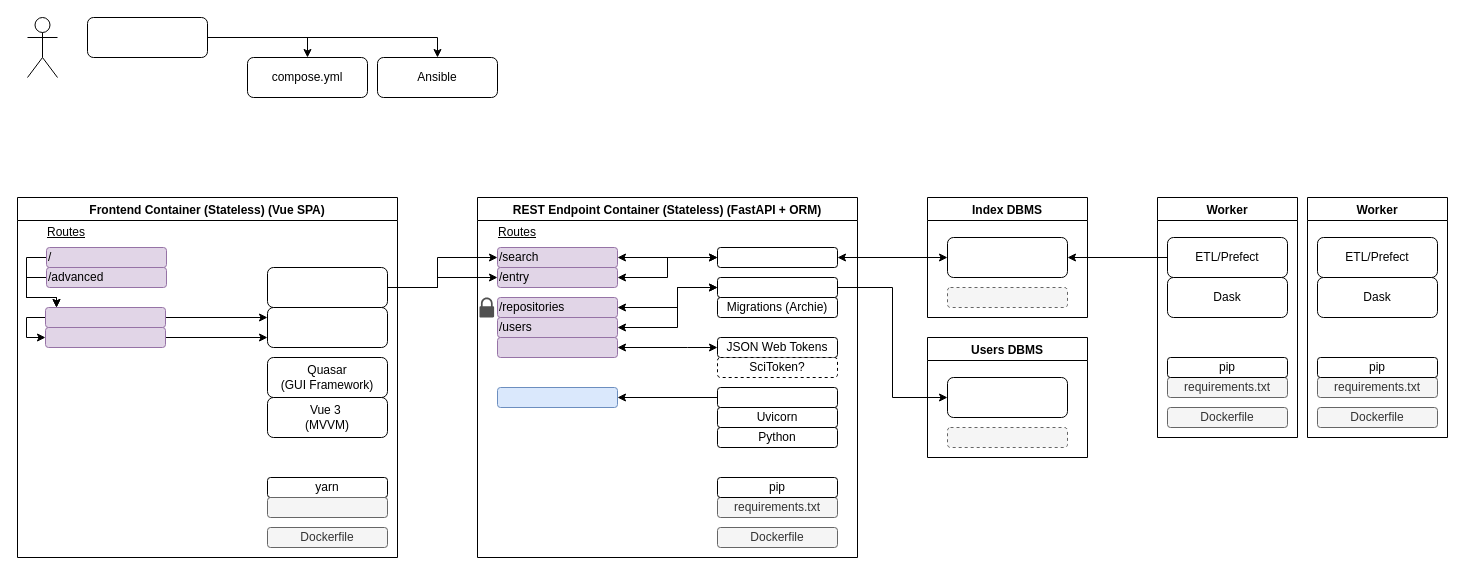
This 1465x575 diagram has some shape labels left out. The shapes that lost their labels are listed below. From the top down, each one's centre as x and y in pixels, then its label:
point (42, 47): DevOps
point (147, 37): devenv (requirement.txt, ...)
point (777, 257): clickhouse/sql client
point (1007, 257): Clickhouse/Postgres
point (327, 287): Axios (API/REST)
point (777, 287): ORM (Tortoise)
point (1007, 297): Ansible Playbook?
point (105, 317): /results
point (105, 337): /detail
point (327, 327): Pinia (State Management)
point (557, 347): /auth
point (557, 397): /docs (OpenAPI)
point (777, 397): FastAPI
point (1007, 397): Postgres/?
point (1007, 437): Official Docker Image
point (327, 507): packages.json
